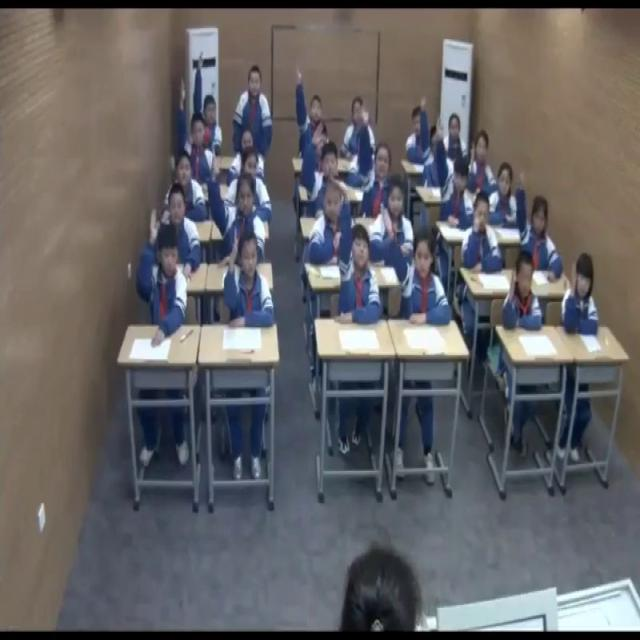focused: (371, 175, 416, 270), (233, 60, 275, 160), (306, 176, 349, 270), (227, 144, 275, 226), (163, 184, 203, 282), (164, 149, 209, 224), (229, 128, 268, 192), (342, 91, 376, 163), (488, 159, 521, 231), (442, 110, 469, 169)
raising_hand: (377, 203, 454, 325), (332, 176, 382, 333), (138, 205, 187, 349), (206, 150, 268, 262), (223, 222, 276, 332), (516, 164, 562, 283), (434, 107, 476, 230), (356, 99, 396, 219), (175, 79, 216, 190), (300, 120, 346, 213), (502, 249, 548, 339), (292, 62, 331, 163), (562, 247, 602, 342), (462, 191, 504, 279), (192, 47, 223, 161), (420, 96, 450, 197), (468, 126, 499, 194)
